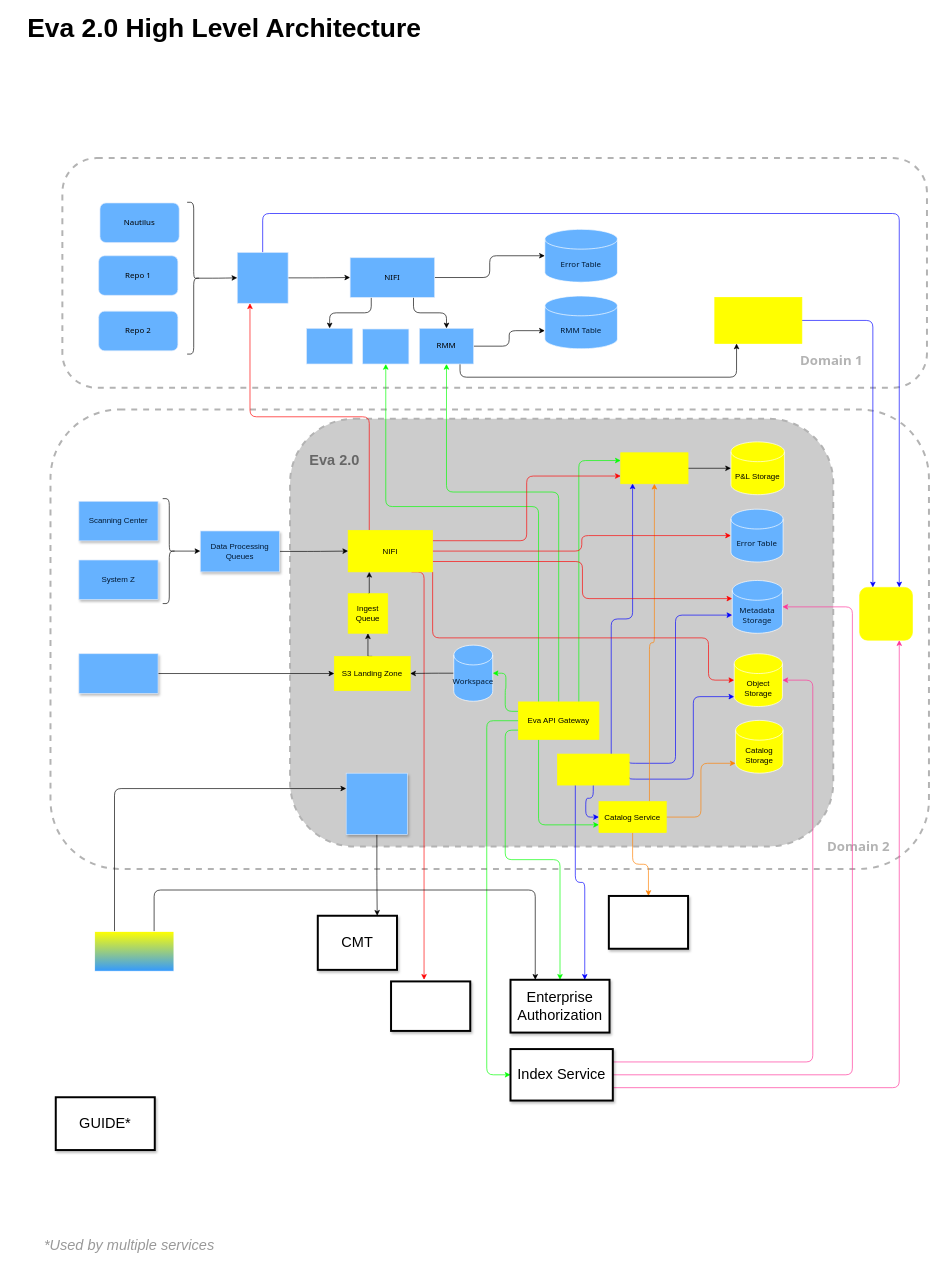
This 941x1271 diagram has some shape labels left out. Each missing label, with the centre of its shape:
"BYNAC" belongs at pixel 134 951.
"Disposition & Holds Notification Service" belongs at pixel 758 320.
"Enterprise Catalog" belongs at pixel 649 923.
"External S3 Buckets" belongs at pixel 119 674.
"File Service" belongs at pixel 593 769.
"Ingest Queues" belongs at pixel 262 277.
"Pedigree & Lineage Service" belongs at pixel 654 468.
"RCS" belongs at pixel 385 346.
"Rules Engine" belongs at pixel 329 346.
"SMART" belongs at pixel 431 1006.
"SQS Queues" belongs at pixel 885 613.
"UI" belongs at pixel 377 804.
